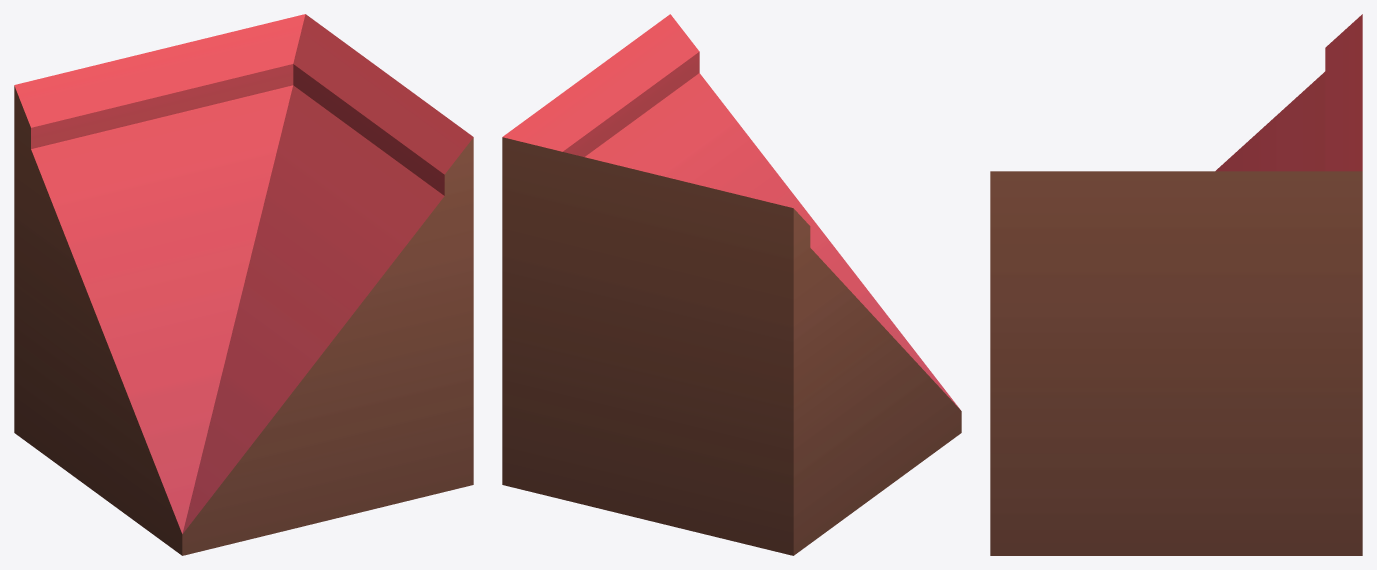
File: roof-high-cornerinner.glb
3 views of the same model, side by side, from view 1: azimuth 30°, elevation 25°; view 2: azimuth 150°, elevation 25°; view 3: azimuth 270°, elevation 25° (orthographic). The views are drawn at different scales.
Parts seen in each view (by area): view 1: roof-high-cornerinner; view 2: roof-high-cornerinner; view 3: roof-high-cornerinner.
Part boxes in pixels (x1,y1,x2,y2): roof-high-cornerinner: (14, 14, 473, 555); roof-high-cornerinner: (502, 14, 961, 555); roof-high-cornerinner: (990, 14, 1362, 555).
Bounding box in the file's own units: 1 × 1.14 × 1.
1 material, 1 textured.
